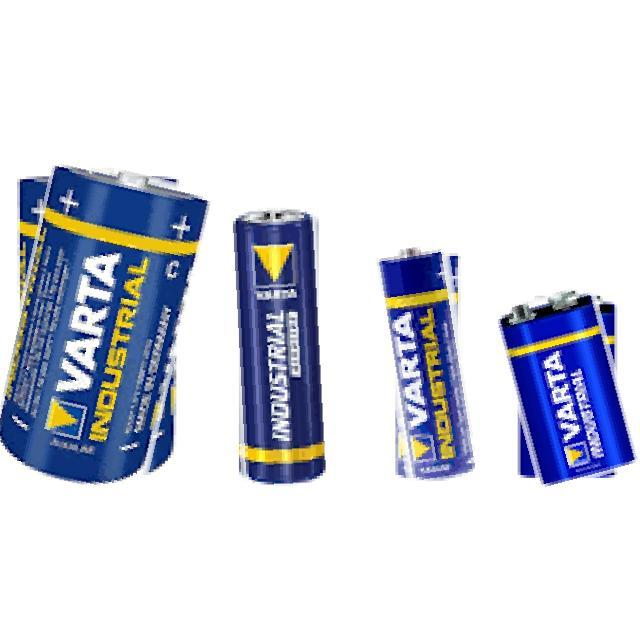Battery: (5, 158, 206, 498), (224, 194, 342, 506), (368, 234, 488, 509), (494, 278, 640, 483)
